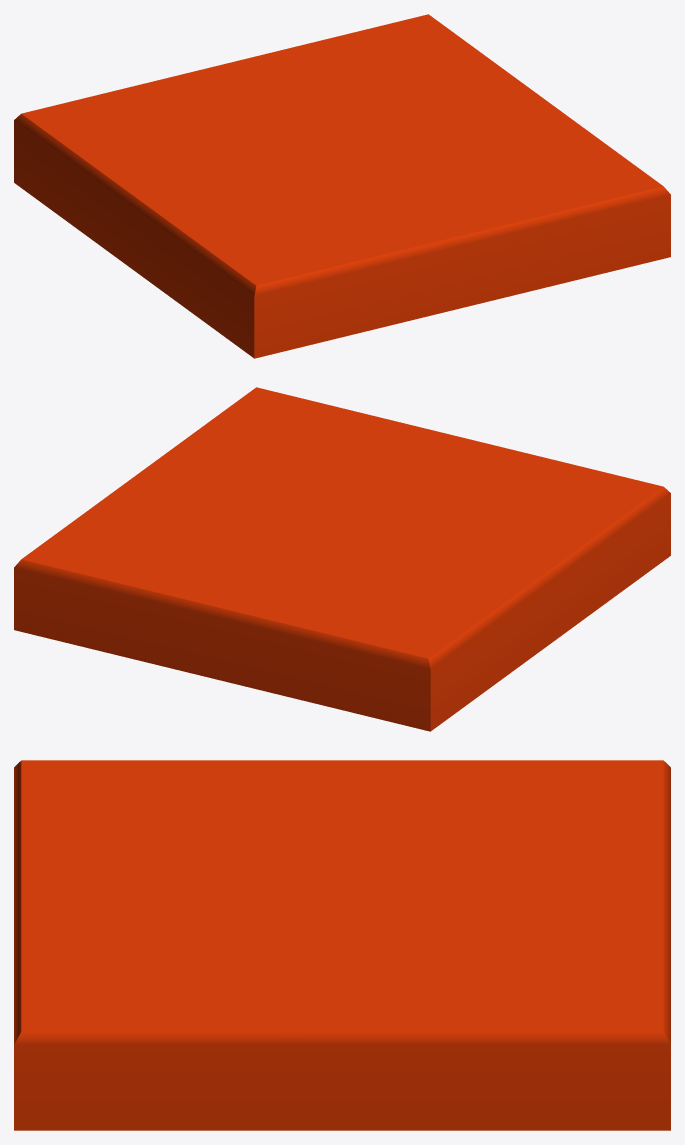
File: Checker_04.fbx
3 renders of one model, top to bottom at view 1: azimuth 30°, elevation 25°; view 2: azimuth 150°, elevation 25°; view 3: azimuth 270°, elevation 25°, orthographic. The views are drawn at different scales.
Parts seen in each view (by area): view 1: Checker_04; view 2: Checker_04; view 3: Checker_04.
Boxes of the visible parts, x1,y1,x2,y2 form: Checker_04: (14,14,670,358); Checker_04: (14,387,670,731); Checker_04: (14,760,670,1130).
Bounding box in the file's own units: 7.95 × 1.28 × 7.95.
